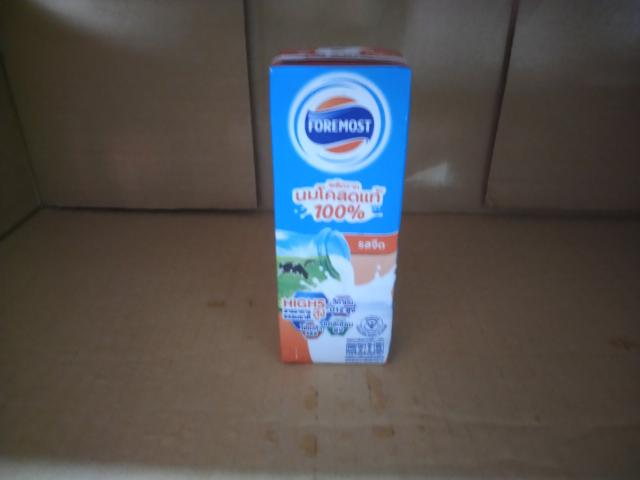drink_box: (258, 38, 424, 382)
